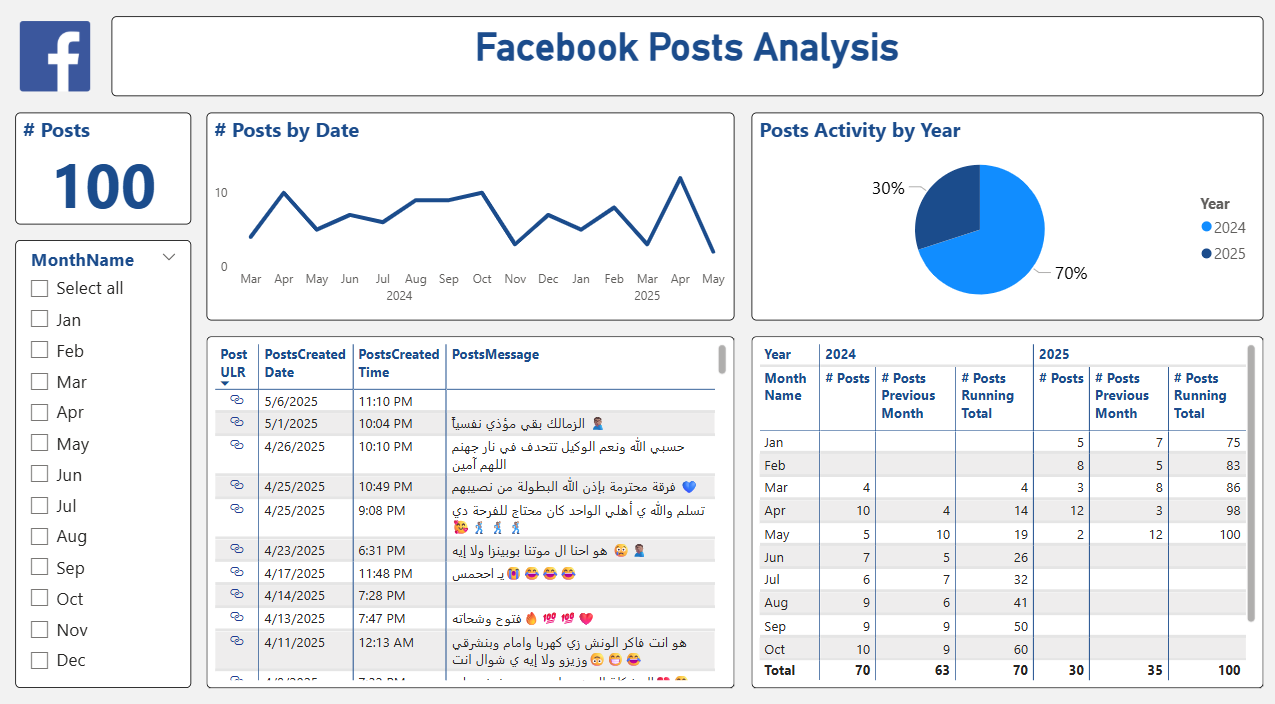

The page's visual inventory and layout, read from the dashboard file:
{"tool":"powerbi","page":{"name":"Facebook Posts","canvas":[1280,705],"ordinal":0},"visuals":[{"type":"textbox","box":[112,16,1152,80],"z":0},{"type":"image","box":[0,16,112,80],"z":1000},{"type":"card","title":"# Posts","fields":{"Values":["_Measures.# Post"]},"box":[16,112,176,112],"z":2000},{"type":"pieChart","title":"Posts Activity by Year","fields":{"Category":["Dates.Date Hierarchy.Year"],"Y":["_Measures.# Post"]},"box":[752,112,512,208],"z":3000},{"type":"slicer","fields":{"Values":["Dates.MonthName"]},"box":[16,240,176,448],"z":4000},{"type":"lineChart","title":"# Posts by Date","fields":{"Category":["Dates.Date Hierarchy.Year","Dates.MonthName"],"Y":["_Measures.# Post"]},"box":[208,112,528,208],"z":5000},{"type":"pivotTable","fields":{"Values":["_Measures.# Posts","_Measures.# Posts Previous Month","_Measures.# Posts Running Total"],"Rows":["Dates.MonthName"],"Columns":["Dates.Year"]},"box":[752,336,512,352],"z":6000},{"type":"tableEx","fields":{"Values":["Posts.Post ULR","Posts.PostsCreatedDate","Posts.PostsCreatedTime","Posts.PostsMessage"]},"box":[208,336,528,352],"z":7000}]}

Visuals, with their boxes in screenshot pixels (x1, y1, x2, y2), scaled from the page's 1280x705 canvas onto the 1275x704 screenshot:
textbox: bbox=(112, 16, 1259, 96)
image: bbox=(0, 16, 112, 96)
"# Posts" card: bbox=(16, 112, 191, 224)
"Posts Activity by Year" pieChart: bbox=(749, 112, 1259, 320)
slicer - Dates.MonthName: bbox=(16, 240, 191, 687)
"# Posts by Date" lineChart: bbox=(207, 112, 733, 320)
pivotTable - _Measures.# Posts x _Measures.# Posts Previous Month: bbox=(749, 336, 1259, 687)
tableEx - Posts.Post ULR x Posts.PostsCreatedDate: bbox=(207, 336, 733, 687)
